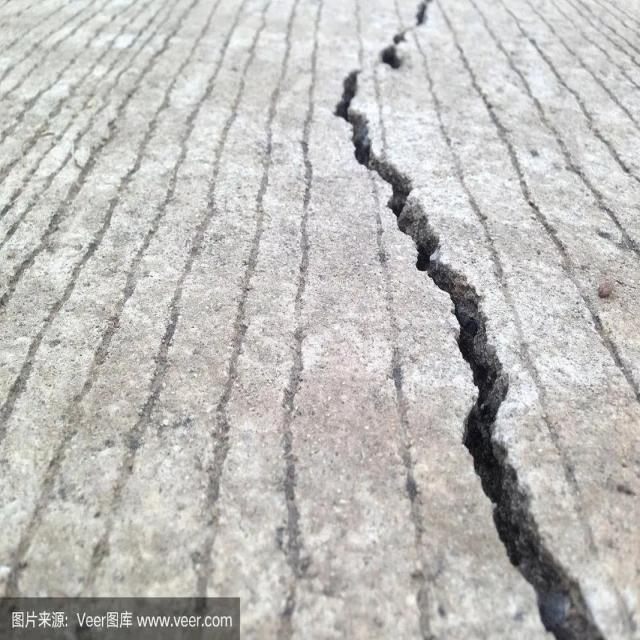crack: (336, 71, 605, 639), (416, 0, 431, 23)
